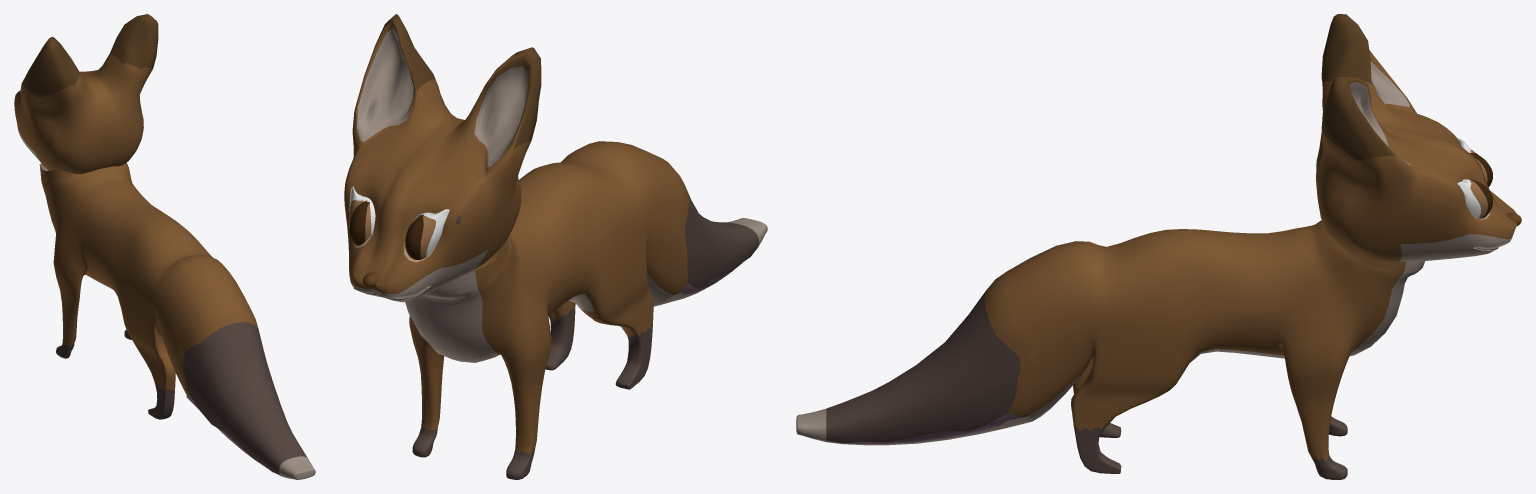
Rendered from Fox.fbx.
3 views of the same model, side by side, from view 1: azimuth 30°, elevation 25°; view 2: azimuth 150°, elevation 25°; view 3: azimuth 270°, elevation 25° (orthographic). The views are drawn at different scales.
Visible parts, largest first — view 1: pCube5; view 2: pCube5; view 3: pCube5.
Boxes of the visible parts, bbox=[...] form: pCube5: bbox=[14, 14, 315, 479]; pCube5: bbox=[344, 14, 767, 479]; pCube5: bbox=[796, 14, 1521, 479].
Bounding box in the file's own units: 11.74 × 29.11 × 46.4.
